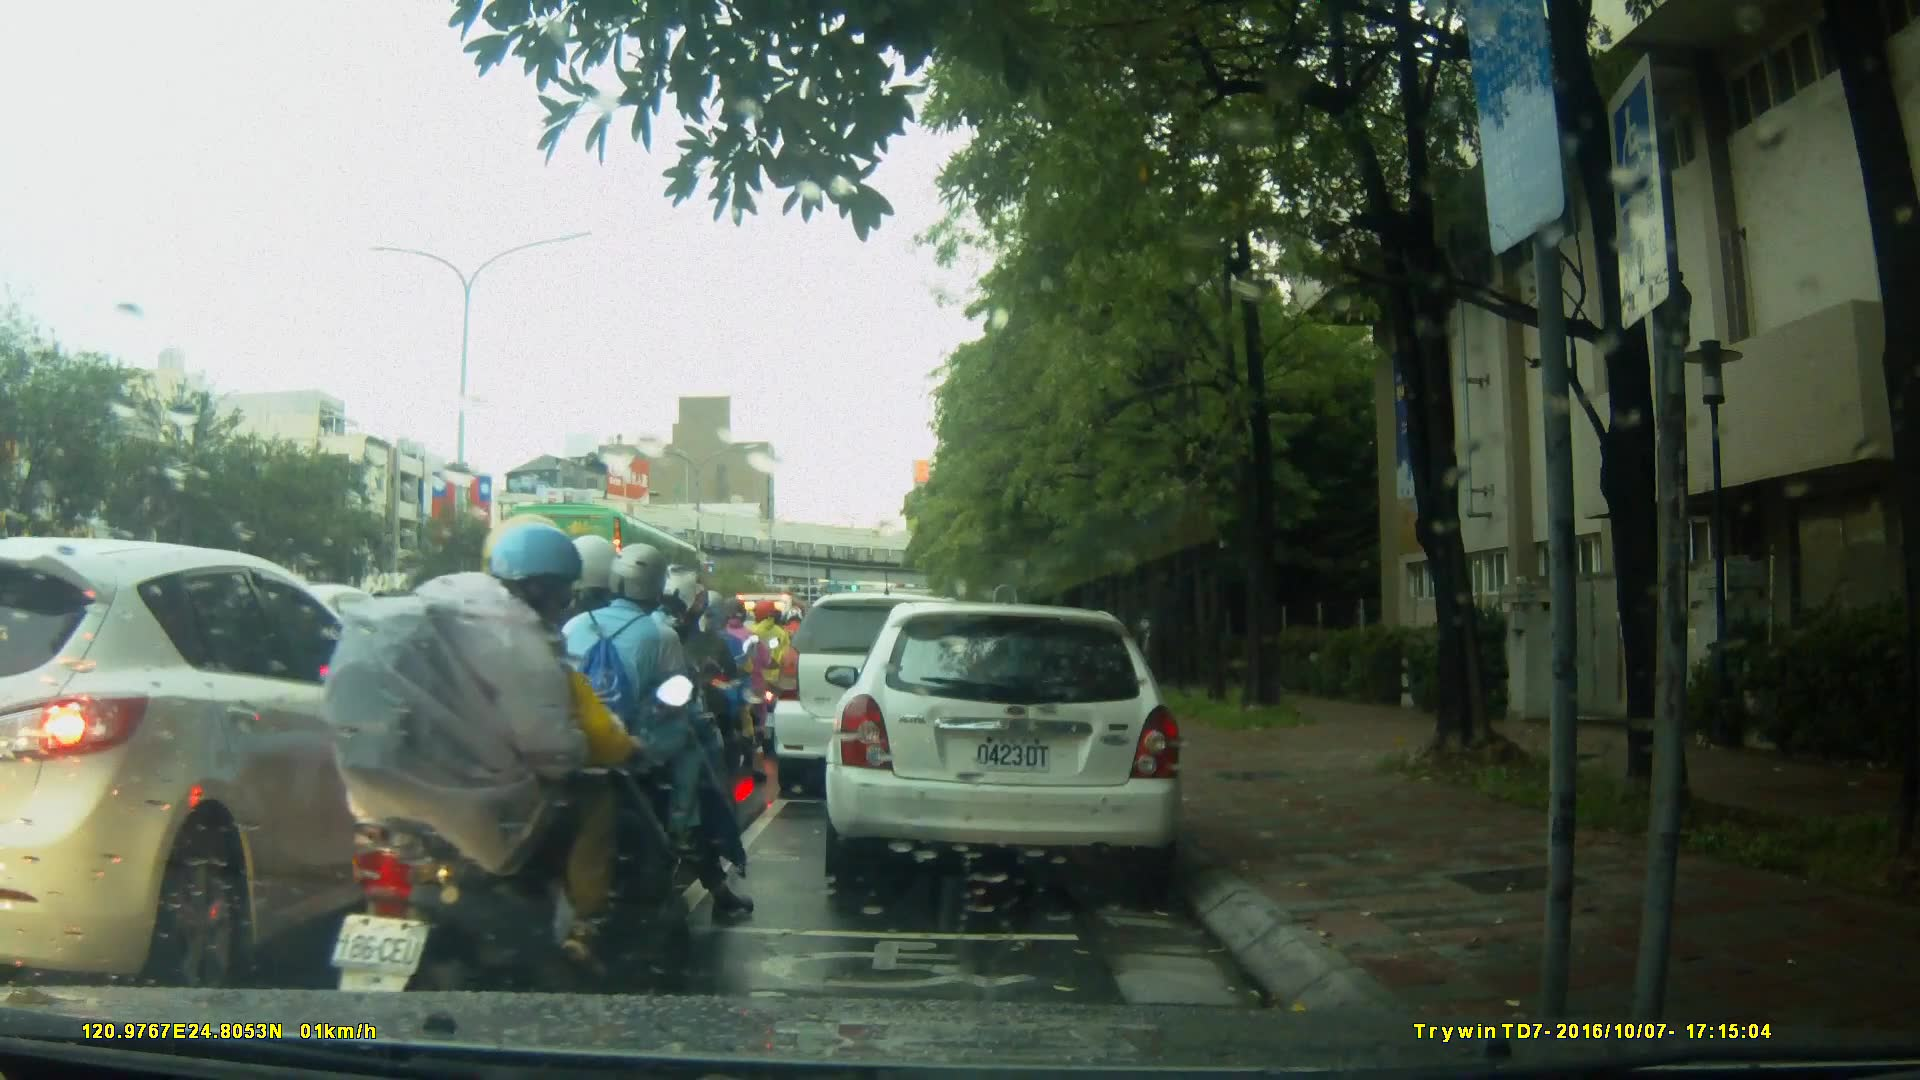rider: (323, 511, 693, 1051), (542, 539, 751, 927), (605, 562, 720, 831), (688, 585, 767, 787), (707, 598, 779, 764), (749, 598, 797, 737)
vehicle: (2, 536, 458, 987), (831, 592, 1196, 897), (312, 590, 629, 776), (773, 590, 999, 803), (498, 502, 713, 636)
